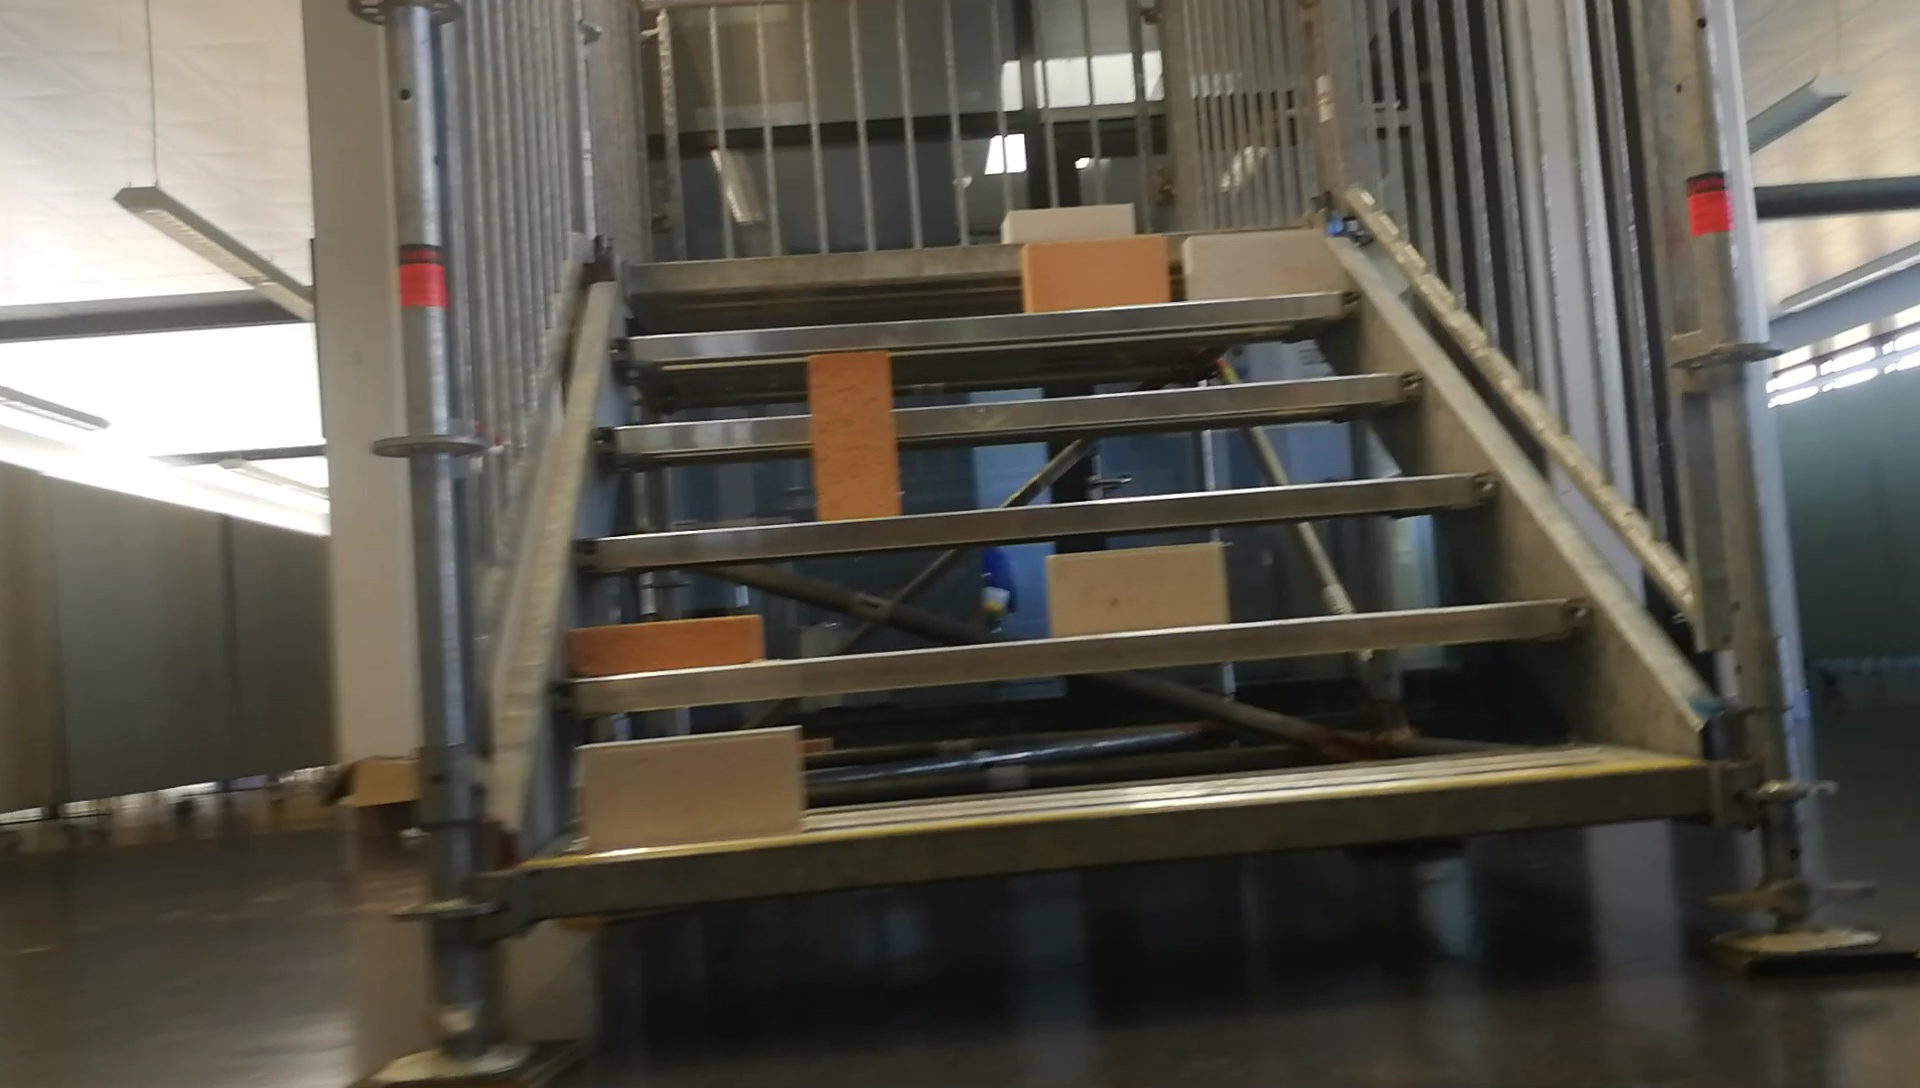brick: (582, 725, 799, 845), (1050, 546, 1222, 640), (812, 353, 890, 521), (574, 611, 760, 673), (1025, 237, 1160, 309), (1185, 232, 1325, 298), (1002, 207, 1133, 243)
edge: (527, 764, 1702, 913), (549, 599, 1601, 708), (578, 471, 1513, 567), (597, 369, 1420, 448), (612, 290, 1364, 357)
stairs: (343, 7, 1917, 1085)
steps: (506, 196, 1727, 926)
